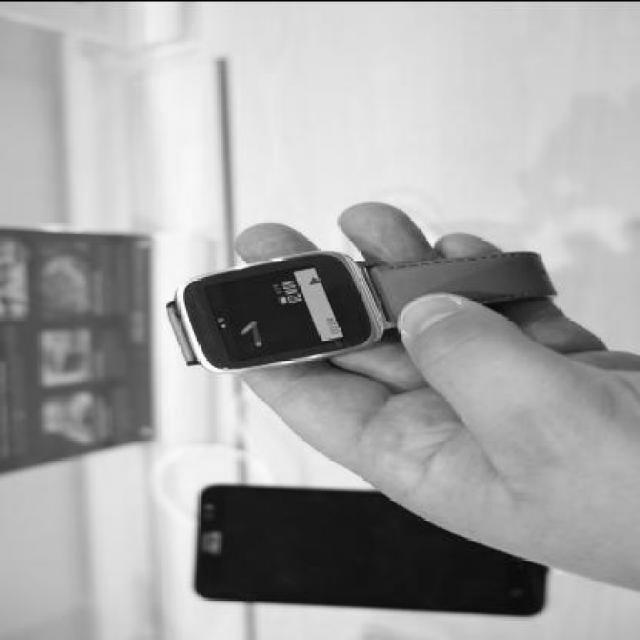fake: (173, 474, 552, 612)
